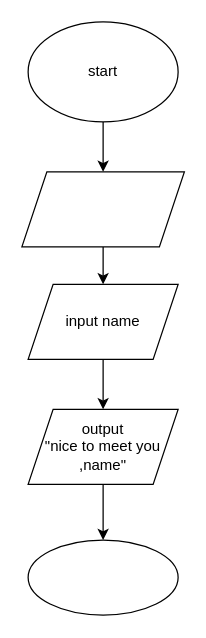
This 206x638 diagram has some shape labels left out. The box of each missing label's shape, as (x1, y1, x2, y2) in pixels:
output "What your name?": (21, 171, 184, 247)
stop: (27, 539, 178, 615)
